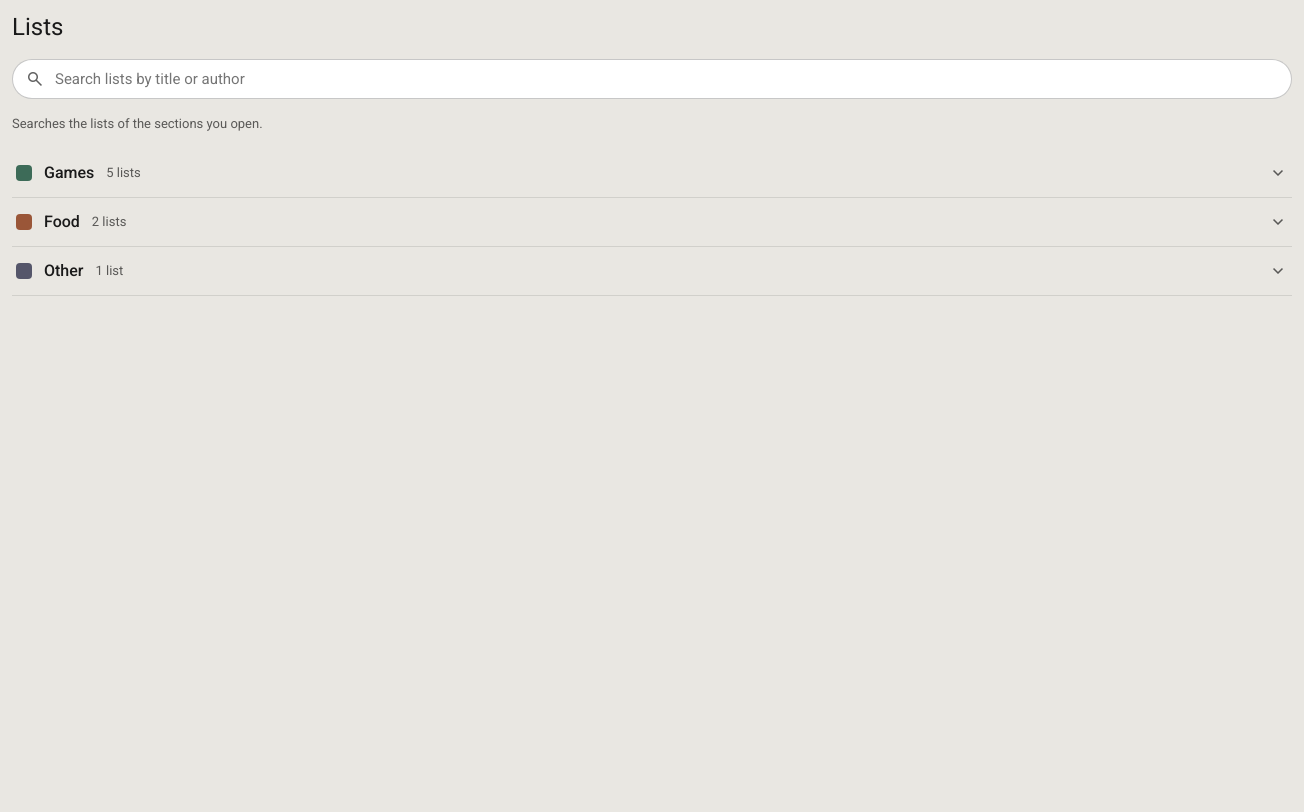
ListsPane › names an anonymous list's author to the owner only
Click the button "Games 5 lists" at (69, 172), box [12,149,1292,197]
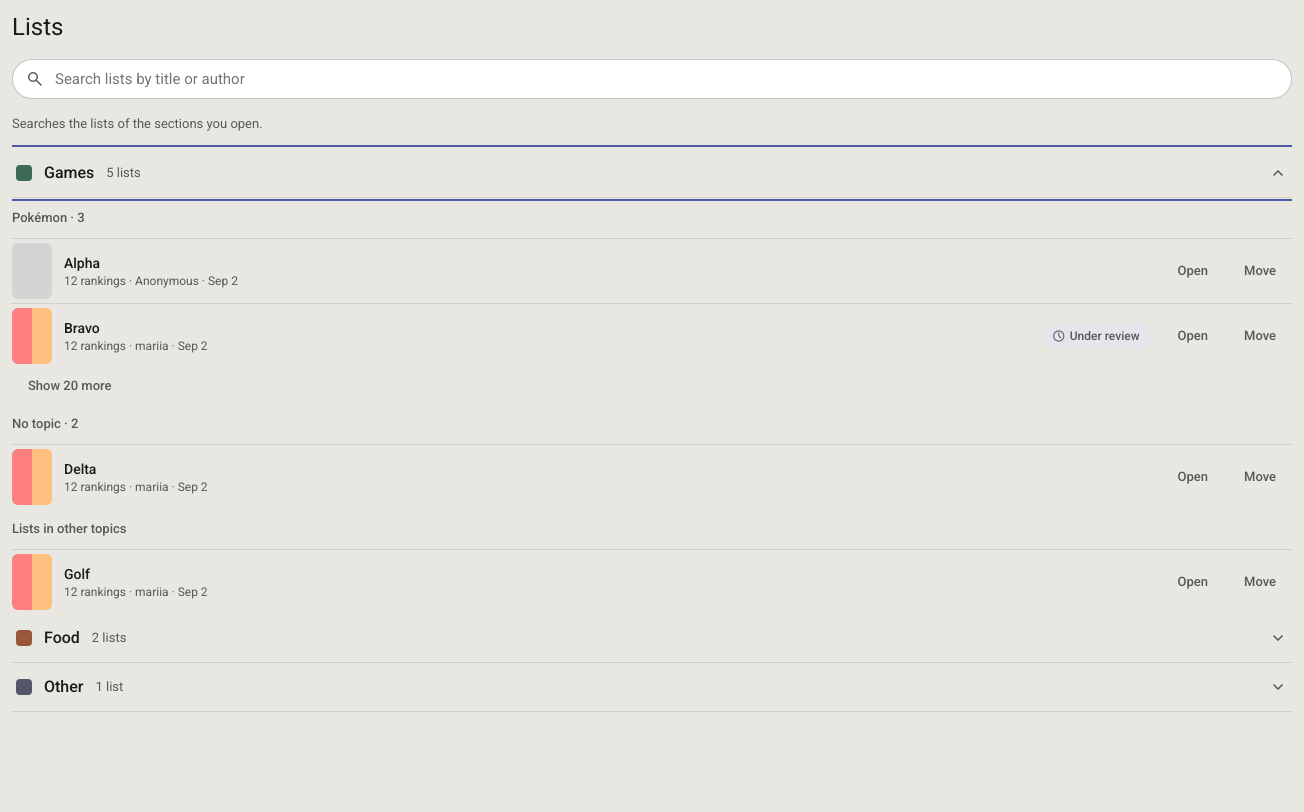
Expected: the text "danylo" is not shown
Expected: the list item "Alpha" shows "12 rankings · Anonymous · Sep 2", [64,274,238,288]
Type "danylo" into the search field at (666, 79), box [53,67,1279,91]
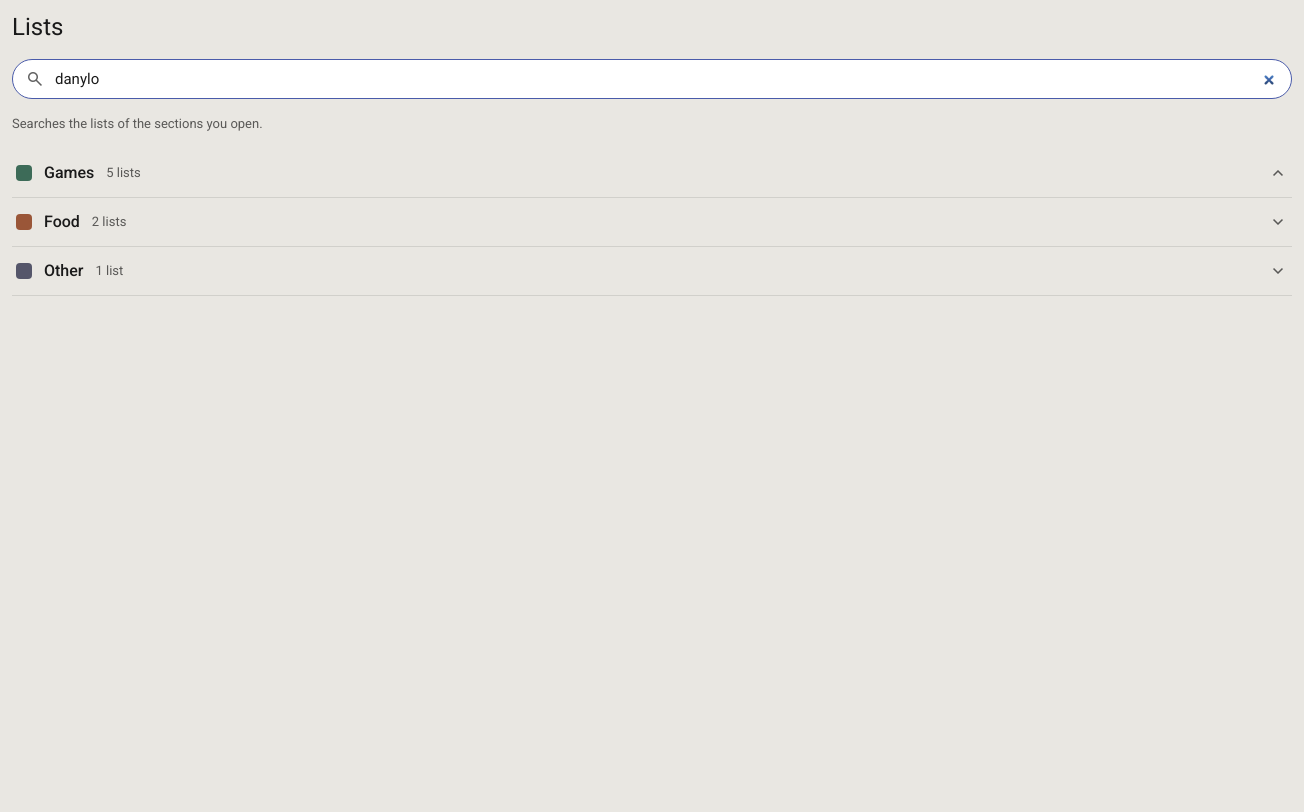
Expected: the text "Alpha" is gone
